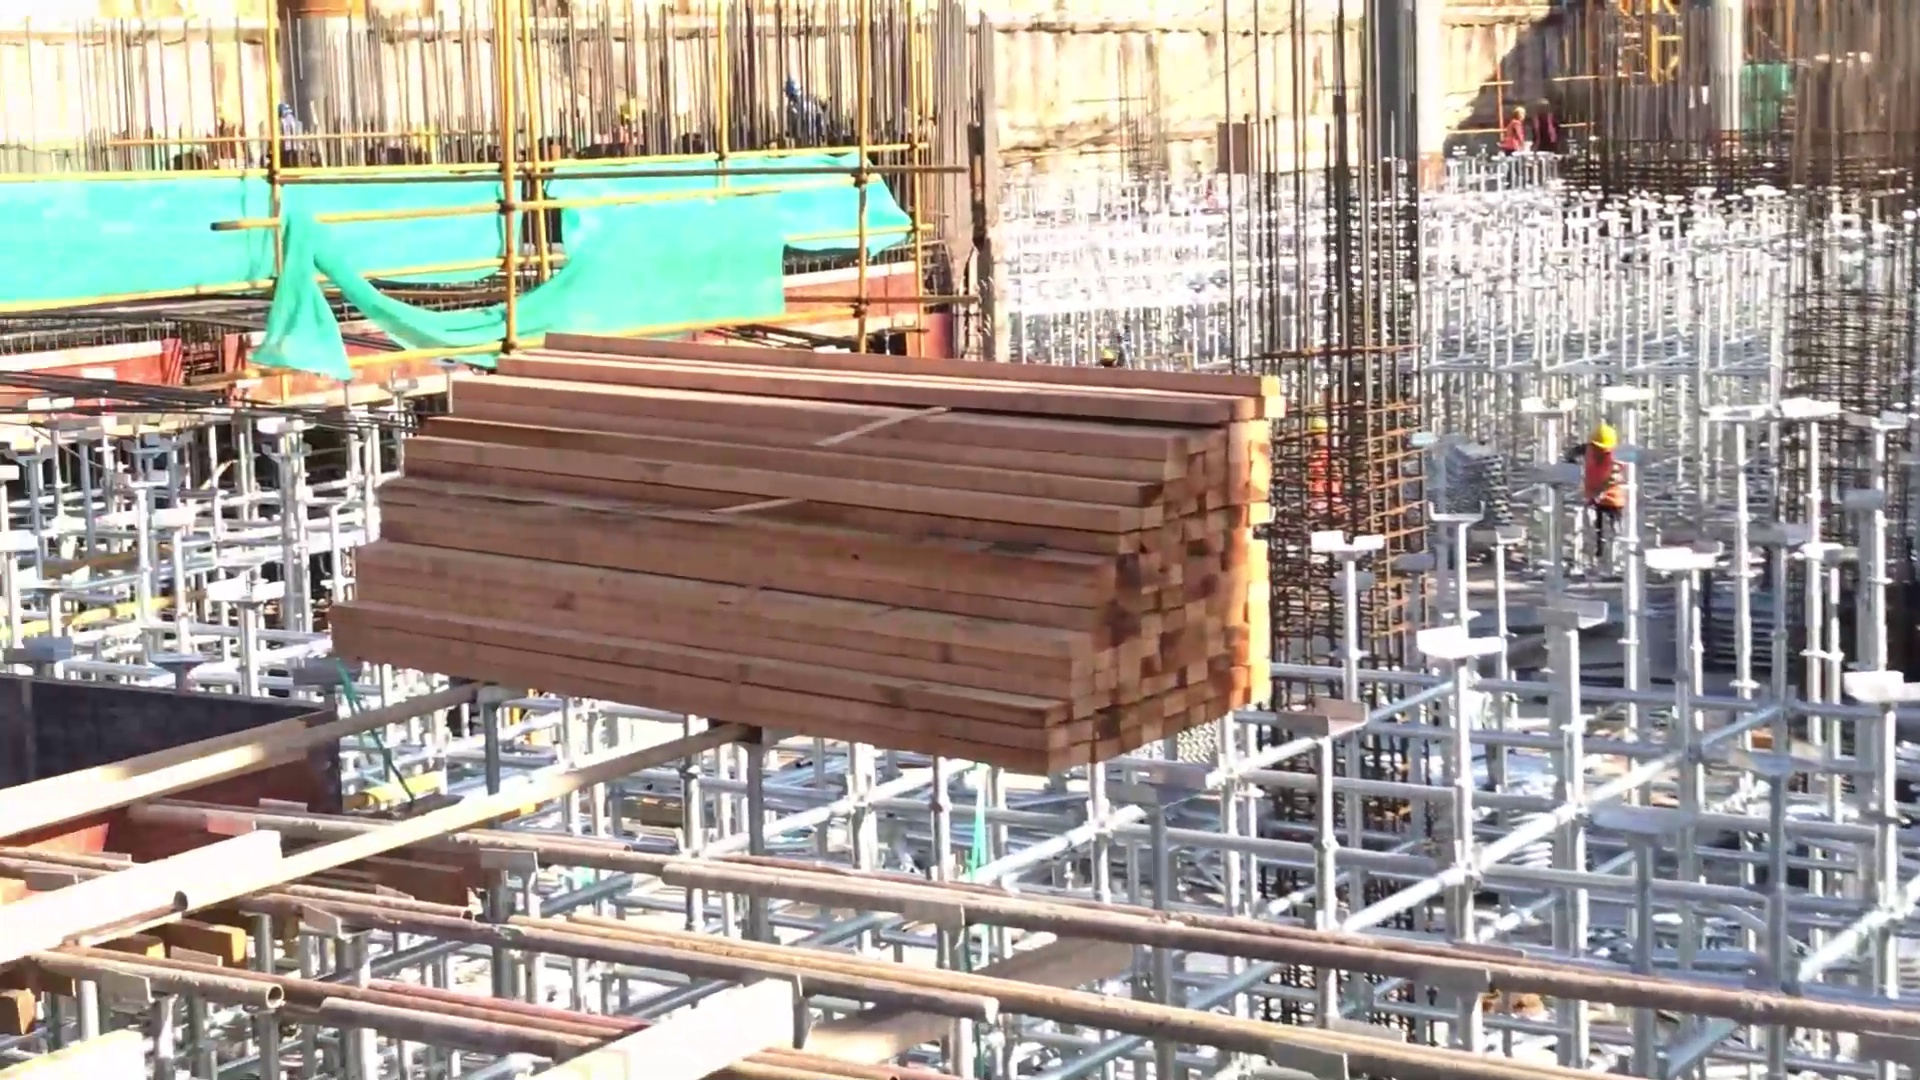helmet: (609, 91, 642, 119), (1509, 98, 1528, 113)
vest: (1581, 433, 1629, 516), (1493, 105, 1538, 149), (270, 123, 319, 146)
